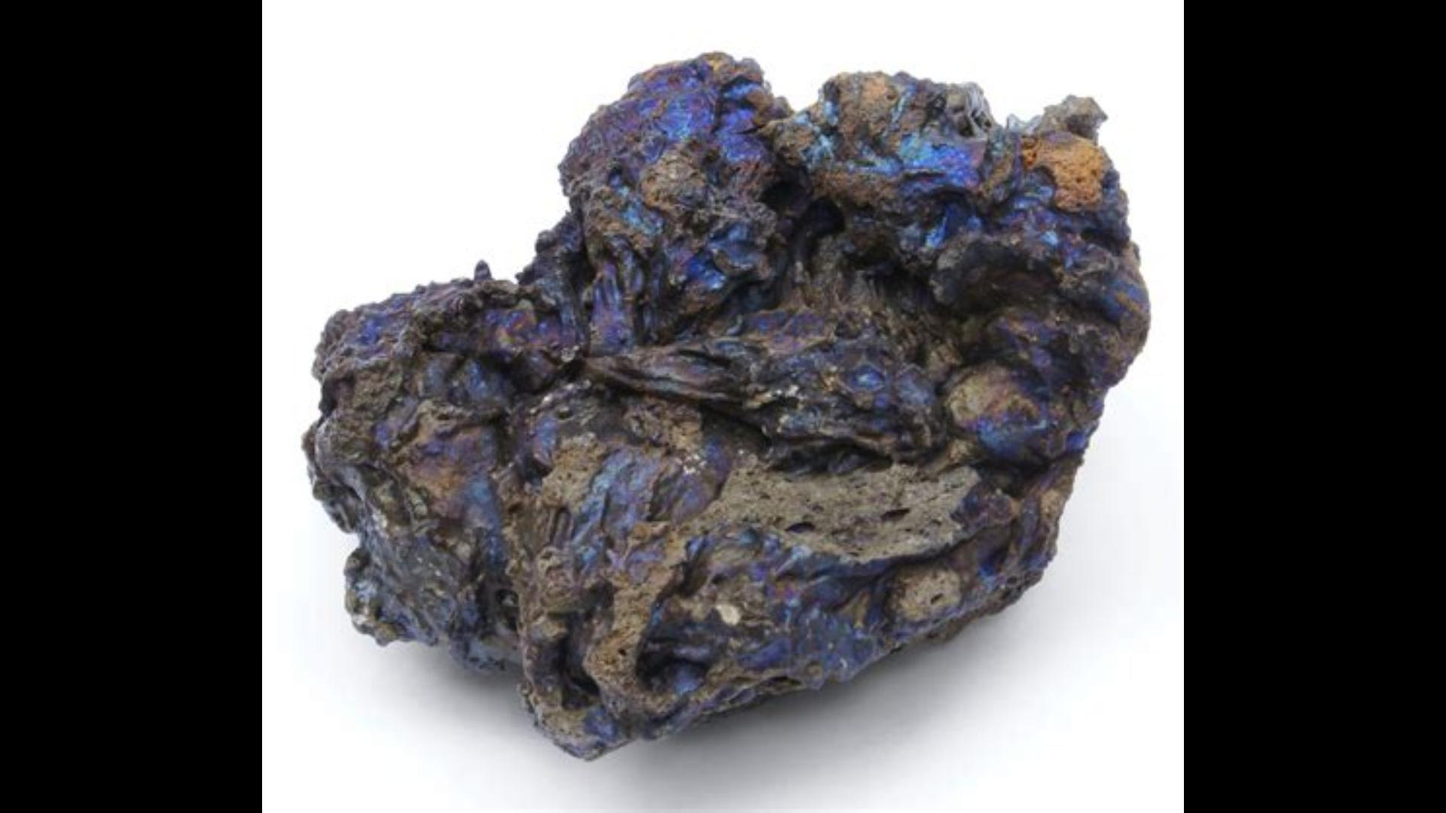rock: (307, 66, 1146, 753)
